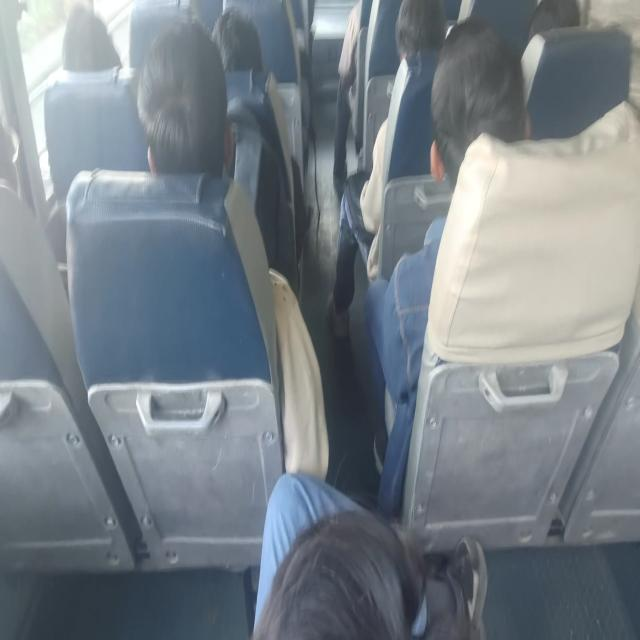person: (136, 16, 329, 479), (364, 15, 530, 512), (326, 0, 446, 340), (252, 471, 488, 638), (210, 7, 308, 294), (43, 1, 137, 201), (136, 17, 231, 176), (332, 0, 362, 199), (61, 2, 122, 72), (211, 6, 263, 73)
